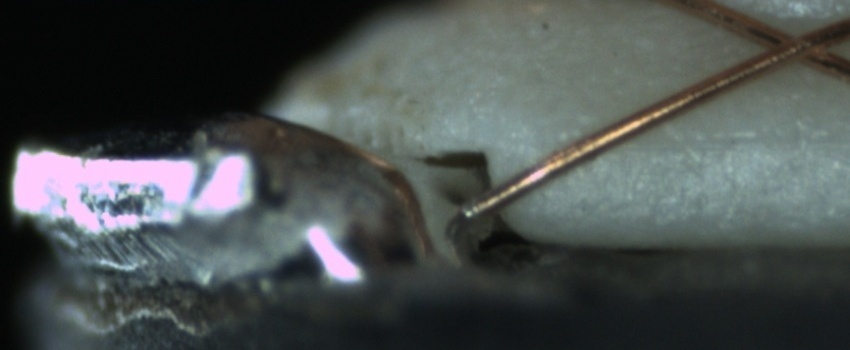CL: (744, 16, 837, 72)
DL: (609, 108, 846, 175)
